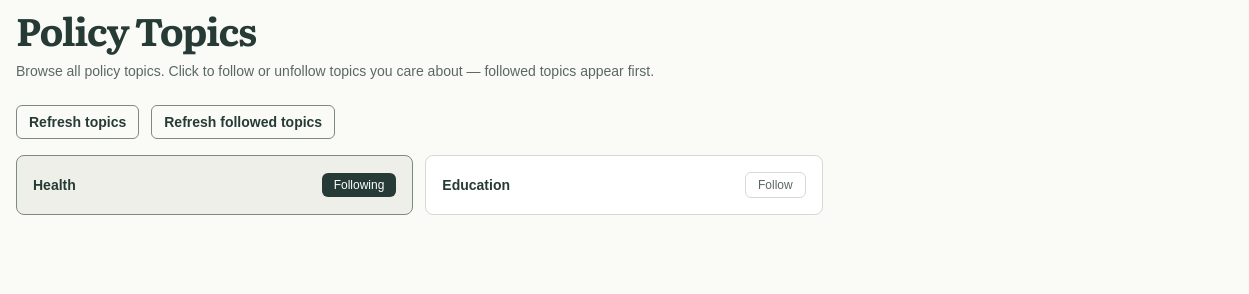
Test case: TopicsPage › keeps followed topics when refresh fails and retries only tracking state
Expected: the button "Following" is shown, [322,173,396,197]
Click the button "Refresh followed topics": point(243, 122) [151,105,335,139]
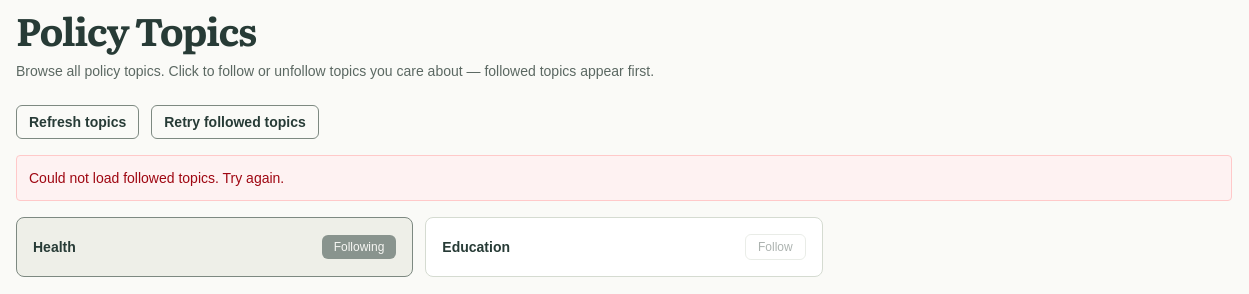
Expected: the button "Following" is shown, [322,235,396,259]
Expected: the text "Could not load followed topics. Try again." is shown, [16,155,1232,201]
Click the button "Retry followed topics": point(235, 122) [151,105,319,139]
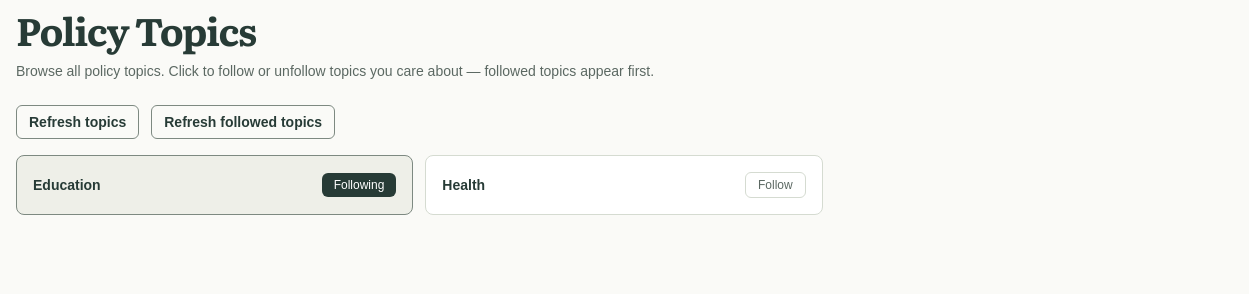
Expected: the button "Following" is shown, [322,173,396,197]
Expected: the text "Could not load followed topics. Try again." is gone
